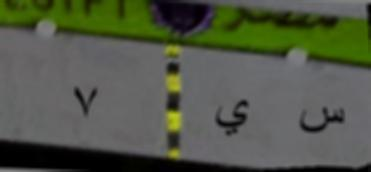7: (59, 68, 124, 132)
seen: (290, 99, 350, 144)
yaa: (210, 83, 256, 144)
